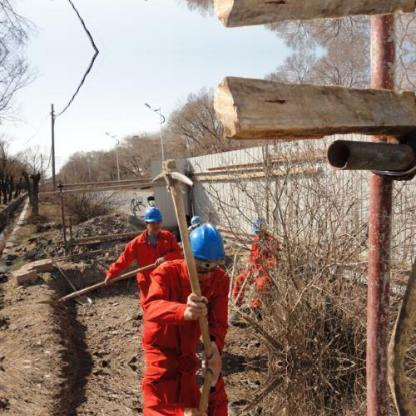helmet: (190, 219, 232, 268), (140, 198, 170, 233), (250, 212, 274, 240), (184, 209, 208, 231)
